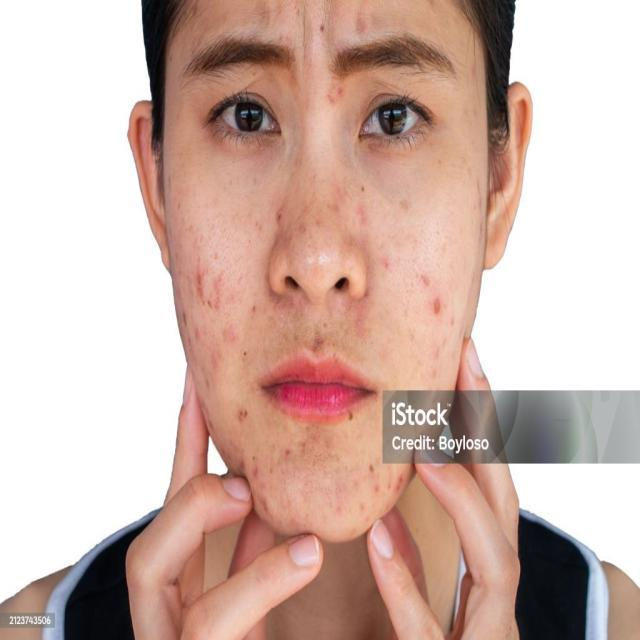papule: (424, 313, 459, 378), (211, 268, 230, 313), (189, 260, 208, 303), (379, 250, 399, 282), (429, 288, 448, 321), (355, 200, 371, 230), (208, 343, 227, 368), (220, 323, 239, 347), (188, 321, 206, 344), (395, 472, 410, 498), (416, 268, 435, 288), (250, 462, 265, 480), (235, 455, 246, 472), (371, 482, 383, 496), (334, 502, 345, 517)
